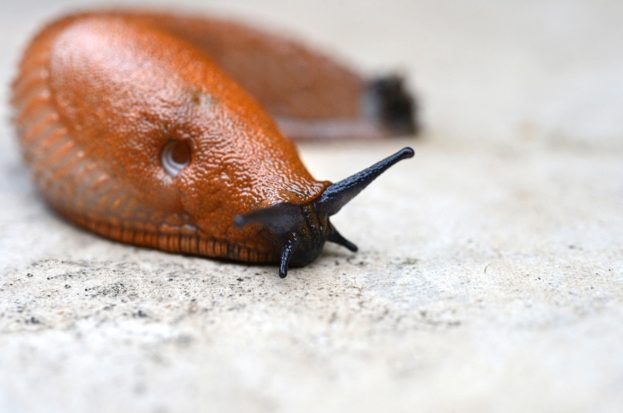slug: (14, 11, 414, 269)
